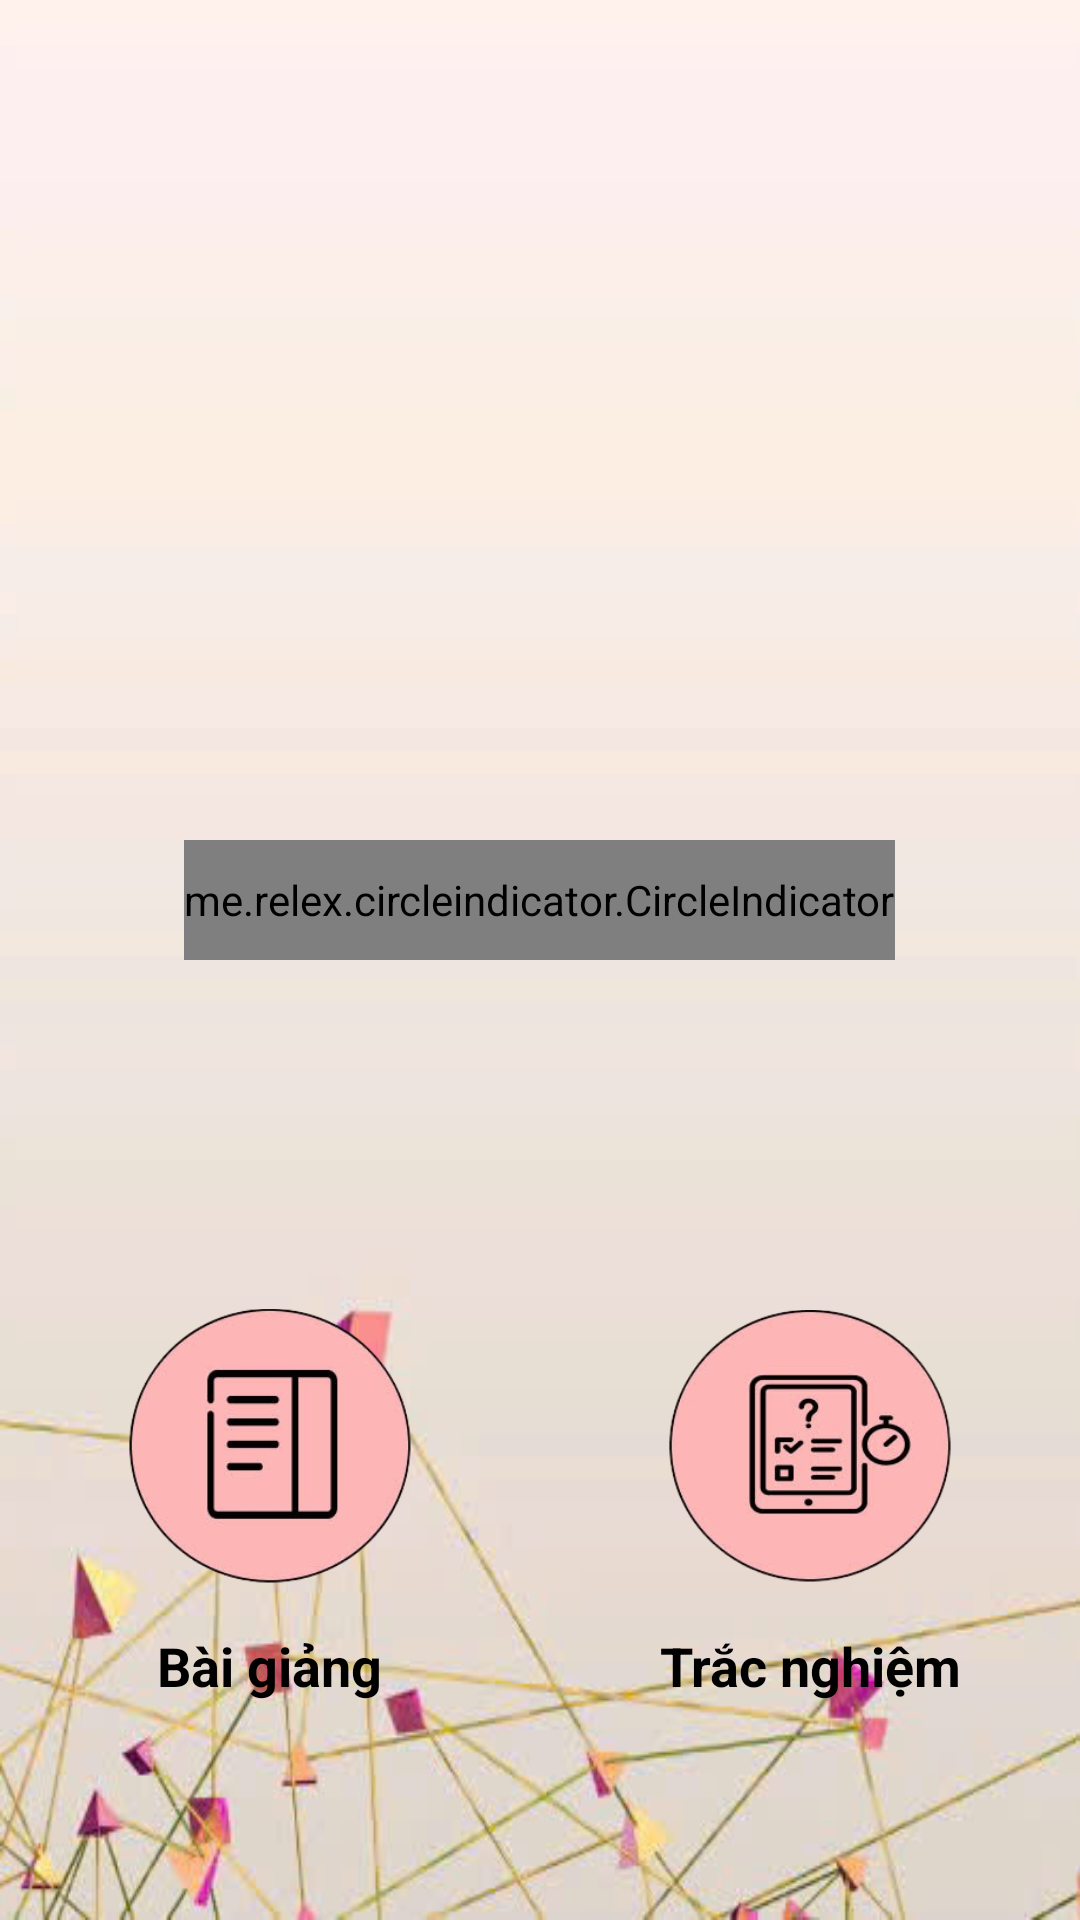

Icon click points for this 1080px x 1920px phone screenshot, format [x,y]:
bookk: [270,1457]
